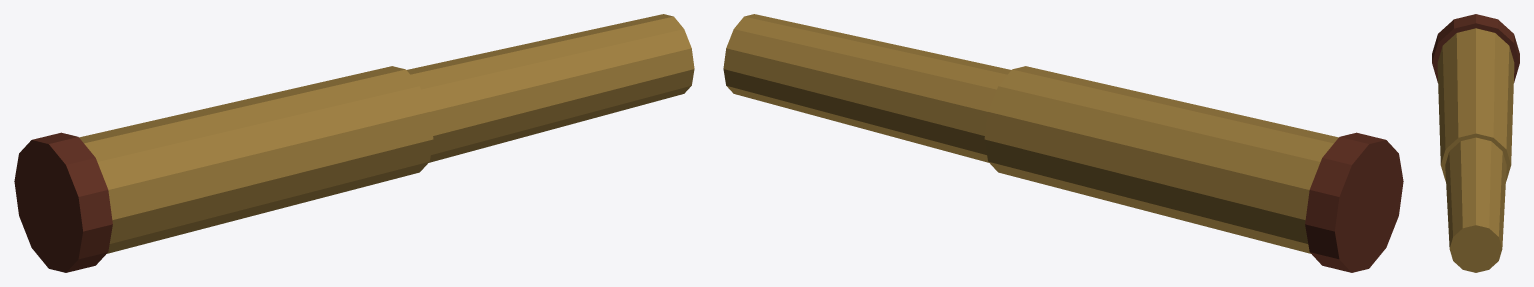
Rendered from TownFind_boatshed.glb.
The picture shows the model from 3 angles, left to right: view 1: azimuth 30°, elevation 25°; view 2: azimuth 150°, elevation 25°; view 3: azimuth 270°, elevation 25°; orthographic projection. The views are drawn at different scales.
Visible parts, largest first — view 1: TownFind_boatshed.001; view 2: TownFind_boatshed.001; view 3: TownFind_boatshed.001.
Part boxes in pixels (bbox=[...]): TownFind_boatshed.001: bbox=[14, 14, 694, 272]; TownFind_boatshed.001: bbox=[723, 14, 1403, 272]; TownFind_boatshed.001: bbox=[1432, 14, 1519, 272].
Bounding box in the file's own units: 0.42 × 0.08 × 0.08.
